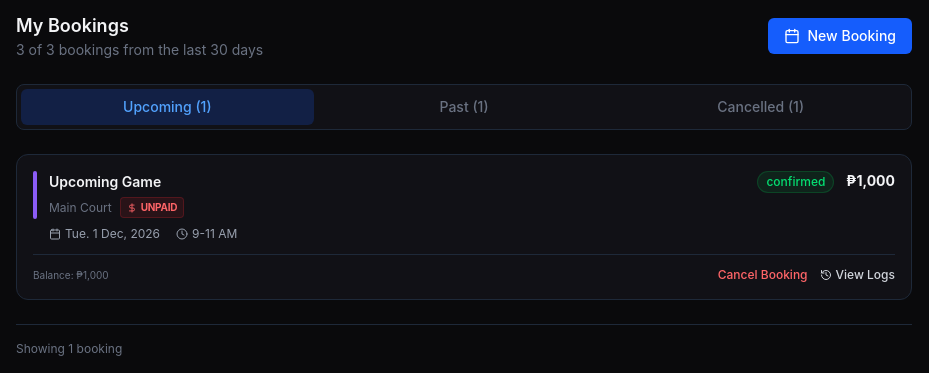
it: MyBookingsPage › switches tabs correctly
Switch to Past
Click the button "past (1)". click: [464, 107]
box: [318,89,610,125]
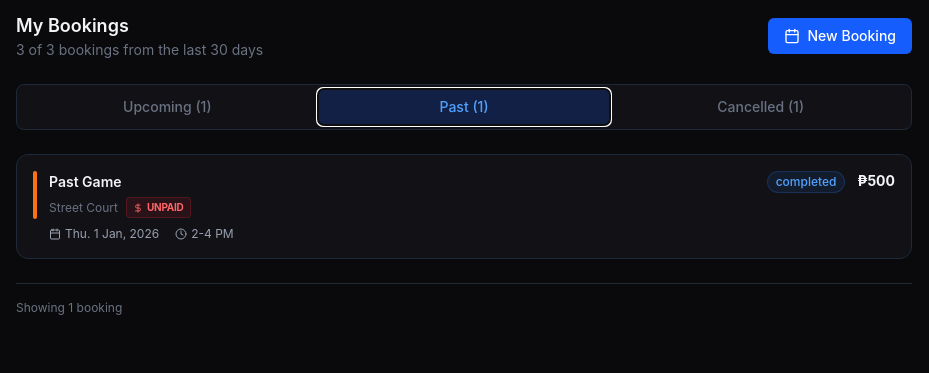
Check: the heading "Past Game" is shown, box [49,172,122,192]
Check: the heading "Upcoming Game" is gone
Switch to Cancelled
Click the button "cancelled (1)". click: [761, 107]
box: [614,89,907,125]
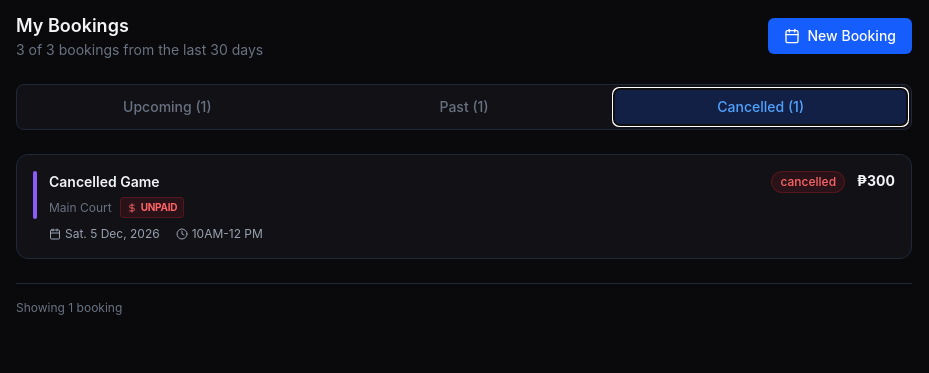
Check: the heading "Cancelled Game" is shown, box [49,172,160,192]
Check: the heading "Past Game" is gone
